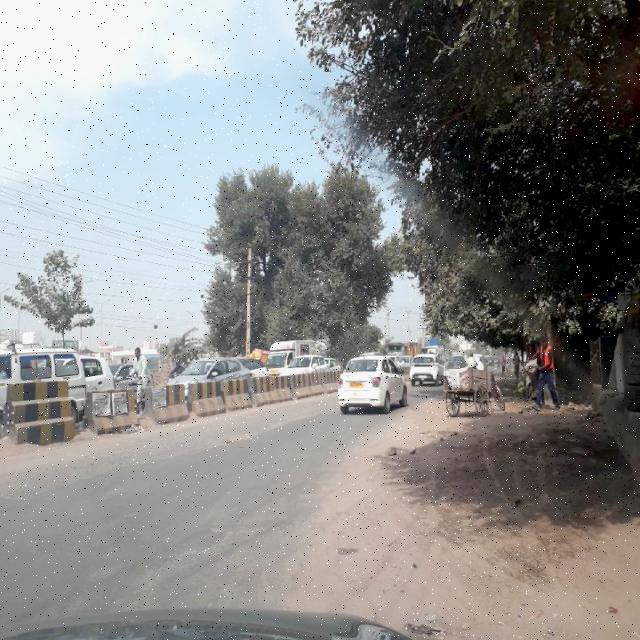D00: (150, 519, 247, 589), (91, 445, 221, 479), (223, 407, 319, 445)
